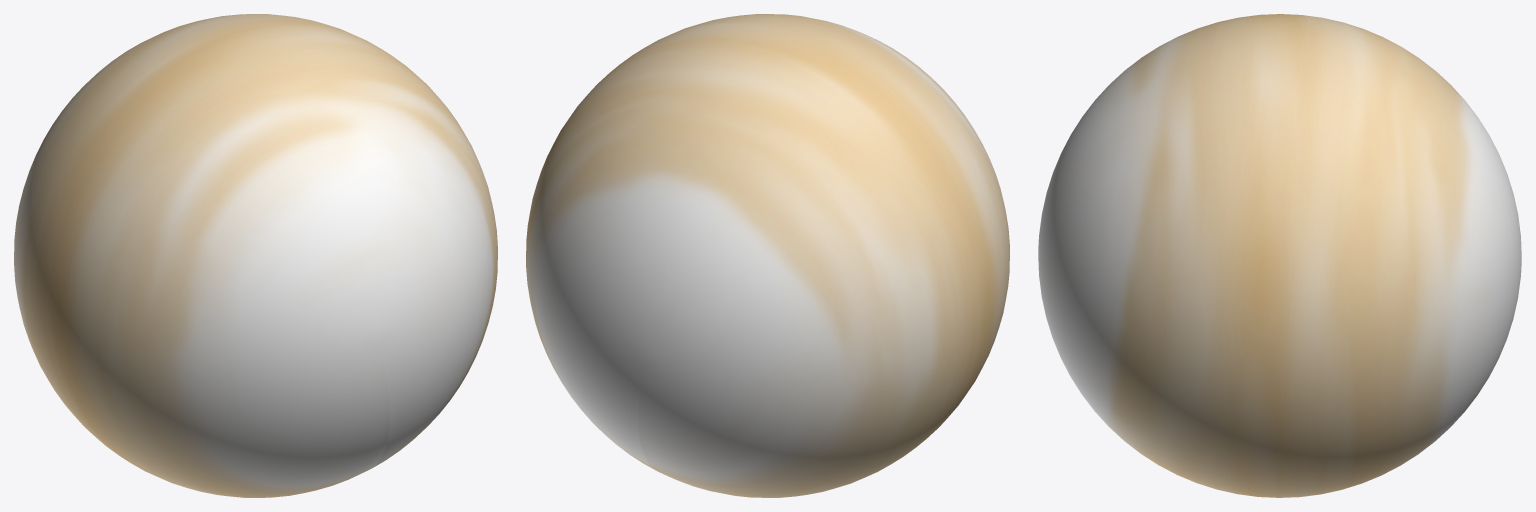
Rendered from Venus.fbx.
3 renders of one model, left to right at view 1: azimuth 30°, elevation 25°; view 2: azimuth 150°, elevation 25°; view 3: azimuth 270°, elevation 25°, orthographic.
Parts seen in each view (by area): view 1: Object_10; view 2: Object_10; view 3: Object_10.
Part boxes in pixels (x1,y1,x2,y2): Object_10: [14, 14, 497, 497]; Object_10: [526, 14, 1009, 497]; Object_10: [1038, 14, 1521, 497].
Size of the model in its own units: 81.14 by 81.21 by 81.14.
1 material, 1 textured.
